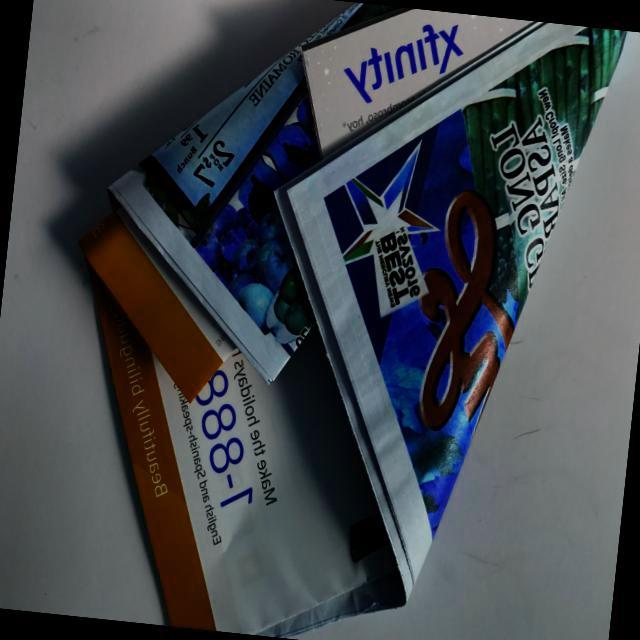paper: (42, 0, 633, 640)
